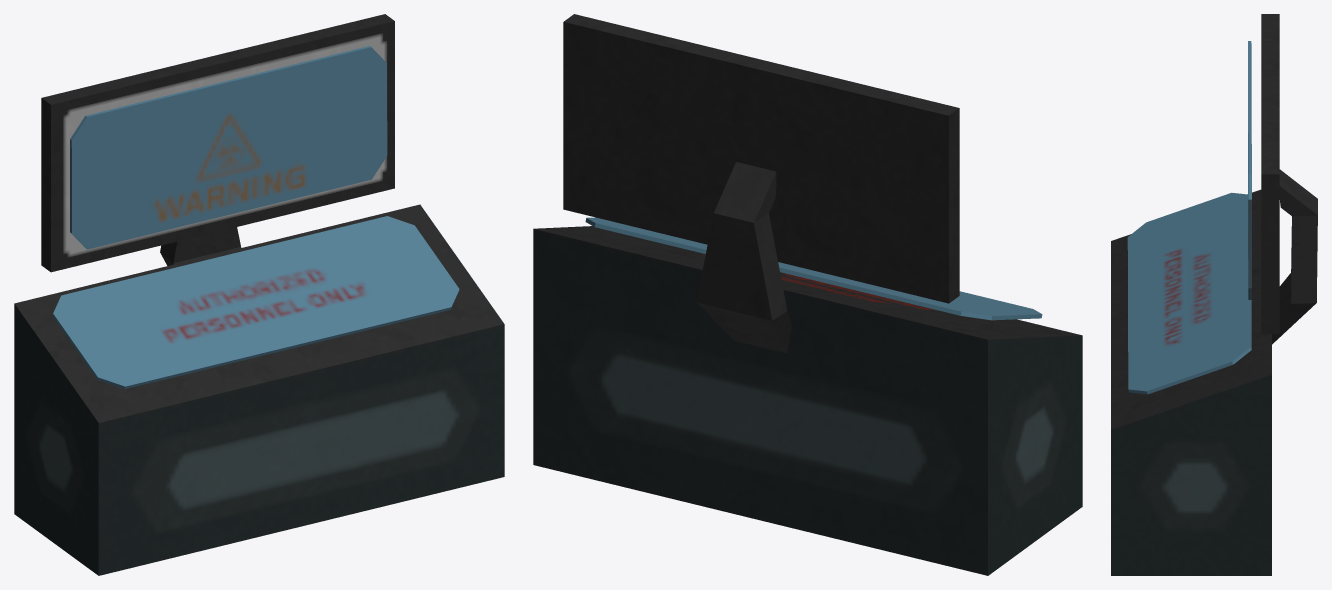
The model's file is SM_ComputerDesk.glb.
3 views of the same model, side by side, from view 1: azimuth 30°, elevation 25°; view 2: azimuth 150°, elevation 25°; view 3: azimuth 270°, elevation 25° (orthographic). The views are drawn at different scales.
Visible parts, largest first — view 1: SM_ComputerDesk; view 2: SM_ComputerDesk; view 3: SM_ComputerDesk.
Boxes of the visible parts, x1=… form: SM_ComputerDesk: x1=14, y1=14, x2=504, y2=575; SM_ComputerDesk: x1=533, y1=14, x2=1082, y2=575; SM_ComputerDesk: x1=1111, y1=14, x2=1317, y2=575.
Size of the model in its own units: 0.45 by 0.4301 by 0.2082.
1 material, 1 textured.
